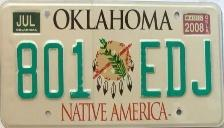0: (42, 39, 66, 101)
1: (68, 40, 92, 99)
8: (14, 39, 40, 101)
D: (164, 39, 188, 99)
E: (140, 39, 162, 98)
J: (189, 39, 214, 98)
